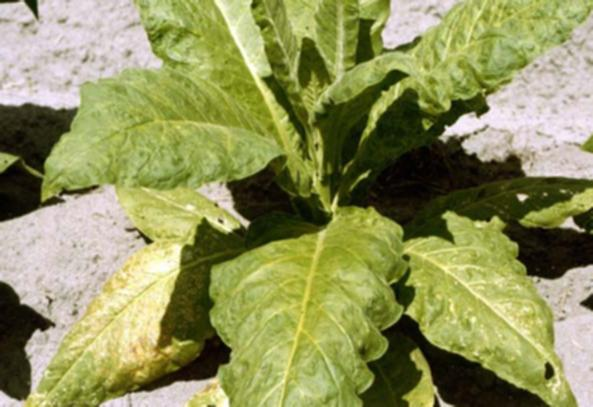Tomato leaf mosaic virus: (343, 0, 593, 176), (205, 208, 411, 407), (407, 189, 573, 397), (33, 81, 272, 202)
